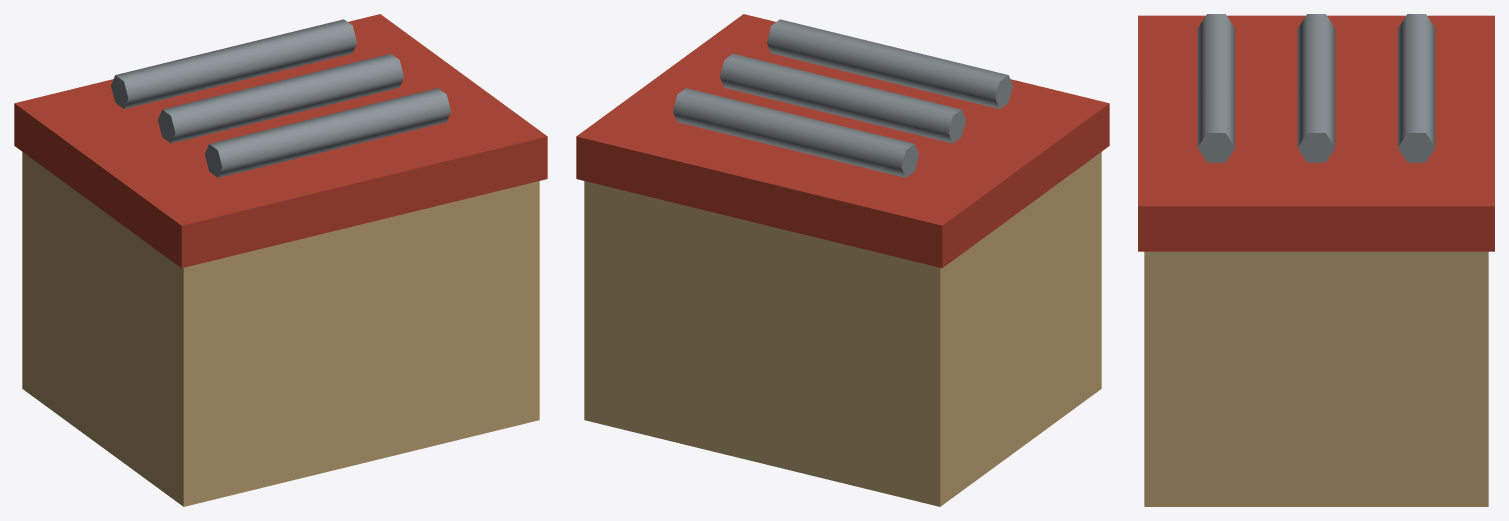
Rendered from fastener_pack.glb.
3 renders of one model, left to right at view 1: azimuth 30°, elevation 25°; view 2: azimuth 150°, elevation 25°; view 3: azimuth 270°, elevation 25°, orthographic. The views are drawn at different scales.
Visible parts, largest first — view 1: fastener_pack; view 2: fastener_pack; view 3: fastener_pack.
Boxes of the visible parts, <box> form: fastener_pack: <box>14,14,547,506</box>; fastener_pack: <box>576,14,1109,506</box>; fastener_pack: <box>1138,14,1494,506</box>.
Size of the model in its own units: 0.072 by 0.0601 by 0.057.
